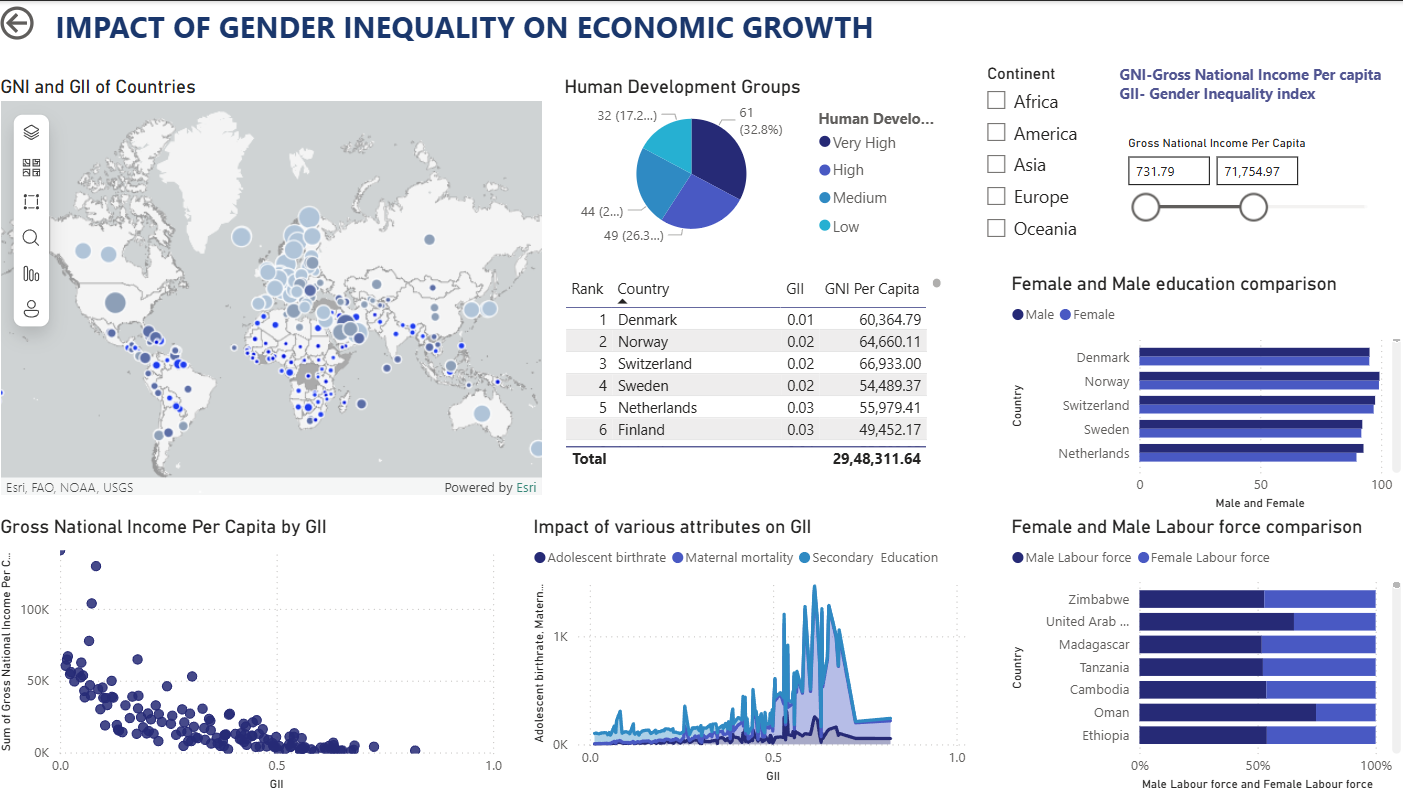

This screenshot's page, from the dashboard's own definition file:
{"tool":"powerbi","page":{"name":"project dashboard","canvas":[1280,720],"ordinal":0},"visuals":[{"type":"esriVisual","title":"GNI and GII of Countries ","fields":{"Location":["Gross National Income Per Capita.Country"],"Color":["Sum(Gender_Inequality_Index.GII)"],"Size":["Sum(Gross National Income Per Capita.Gross National Income Per Capita (2021))"]},"box":[0,67.3,501.4,386.4],"z":0},{"type":"scatterChart","title":"Gross National Income Per Capita by GII","fields":{"X":["Gender_Inequality_Index.GII"],"Y":["Sum(Gross National Income Per Capita.Gross National Income Per Capita (2021))"]},"box":[0,465.9,464.7,254.3],"z":1000},{"type":"tableEx","fields":{"Values":["Gender_Inequality_Index.Rank","Gender_Inequality_Index.Country","Gender_Inequality_Index.GII","Sum(Gross National Income Per Capita.Gross National Income Per Capita (2021))"]},"box":[511.1,245.8,352.2,183.4],"z":2000},{"type":"actionButton","box":[0,0,100,40],"z":3000},{"type":"hundredPercentStackedBarChart","title":"Female and Male Labour force comparison","fields":{"Y":["Sum(Gender_Inequality_Index.M_Labour_force)","Sum(Gender_Inequality_Index.F_Labour_force)"],"Category":["Gross National Income Per Capita.Country"]},"box":[917.1,465.9,363.2,254.3],"z":4000},{"type":"clusteredBarChart","title":"Female and Male education comparison","fields":{"Category":["Gender_Inequality_Index.Country"],"Y":["Sum(Gender_Inequality_Index.M_secondary_educ)","Sum(Gender_Inequality_Index.F_secondary_educ)"]},"box":[917.1,245.8,363.2,220.1],"z":5000},{"type":"pieChart","title":"Human Development Groups","fields":{"Category":["Gross National Income Per Capita.Human Development Groups"],"Y":["CountNonNull(Gross National Income Per Capita.Country)"]},"box":[511.1,67.3,352.2,160.2],"z":6000},{"type":"slicer","fields":{"Values":["Gross National Income Per Capita.Continent"]},"box":[886.6,52.6,128.4,174.9],"z":7000},{"type":"stackedAreaChart","title":"Impact of various attributes on GII","fields":{"Category":["Gender_Inequality_Index.GII"],"Y":["Sum(Gender_Inequality_Index.Adolescent_birth_rate)","Sum(Gender_Inequality_Index.Maternal_mortality)","Sum(Gender_Inequality_Index.F_secondary_educ)"]},"box":[483,465.9,403.5,247],"z":8000},{"type":"textbox","box":[50.1,0,785.1,52.6],"z":9000},{"type":"textbox","box":[1015,52.6,250.7,67.3],"z":10000},{"type":"slicer","fields":{"Values":["Gross National Income Per Capita.Gross National Income Per Capita (2021)"]},"box":[1015,117.4,250.7,110.1],"z":11000}]}

Visuals, with their boxes in screenshot pixels (x1, y1, x2, y2), scaled from the page's 1280x720 canvas onto the 1403x793 screenshot:
"GNI and GII of Countries " esriVisual: l=0, t=74, r=550, b=500
"Gross National Income Per Capita by GII" scatterChart: l=0, t=513, r=509, b=792
tableEx - Gender_Inequality_Index.Rank x Gender_Inequality_Index.Country: l=560, t=271, r=946, b=473
actionButton: l=0, t=0, r=110, b=44
"Female and Male Labour force comparison" hundredPercentStackedBarChart: l=1005, t=513, r=1402, b=792
"Female and Male education comparison" clusteredBarChart: l=1005, t=271, r=1402, b=513
"Human Development Groups" pieChart: l=560, t=74, r=946, b=251
slicer - Gross National Income Per Capita.Continent: l=972, t=58, r=1113, b=251
"Impact of various attributes on GII" stackedAreaChart: l=529, t=513, r=972, b=785
textbox: l=55, t=0, r=915, b=58
textbox: l=1113, t=58, r=1387, b=132
slicer - Gross National Income Per Capita.Gross National Income Per Capita (2021): l=1113, t=129, r=1387, b=251
